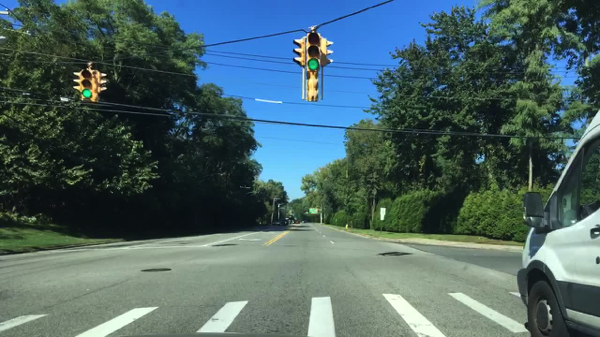car: (521, 103, 599, 335), (279, 220, 287, 226), (271, 220, 278, 226), (301, 219, 308, 224), (295, 220, 301, 225), (288, 220, 294, 225)
traffic light: (305, 32, 321, 100), (80, 70, 94, 103), (292, 37, 305, 68), (96, 72, 109, 103), (323, 39, 334, 69), (70, 71, 80, 103)
traffic sign: (309, 207, 318, 215), (379, 208, 386, 216), (379, 215, 385, 221)
